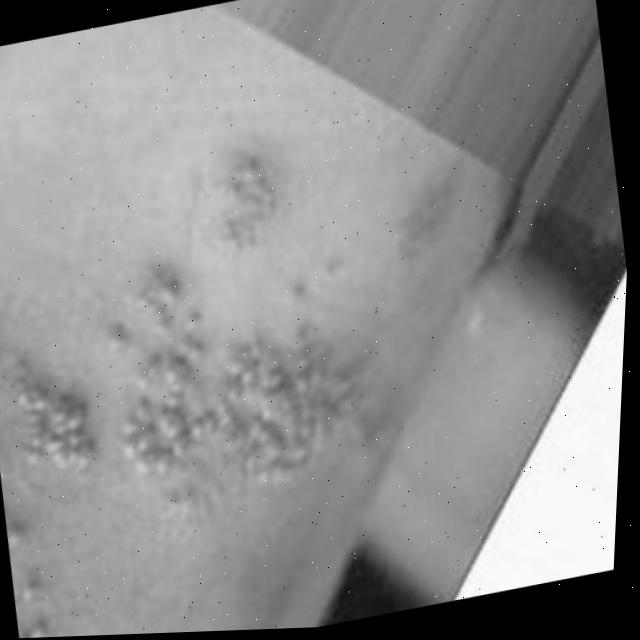Shingles: (0, 117, 401, 561), (379, 159, 469, 262)
